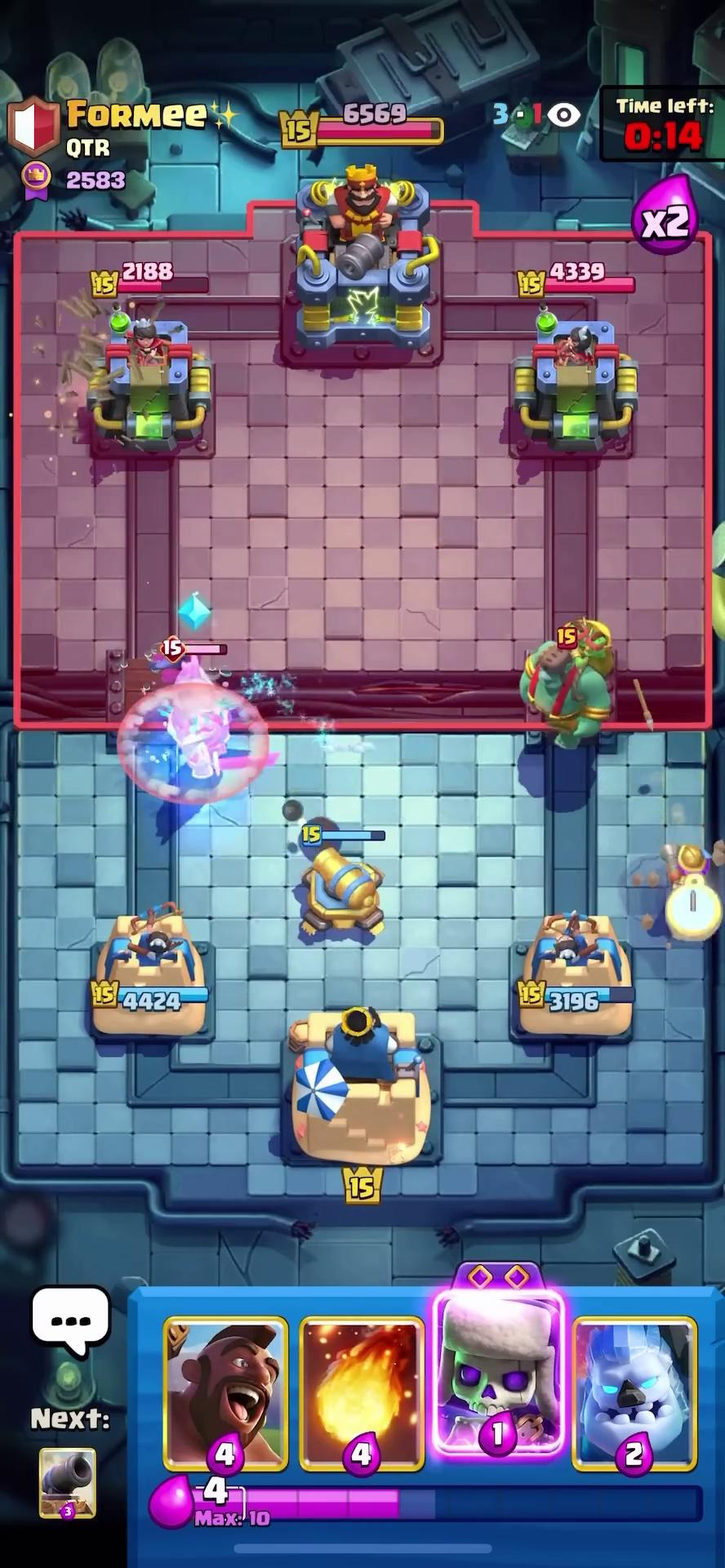cannon: (276, 821, 404, 951)
musketeer: (647, 817, 718, 902)
